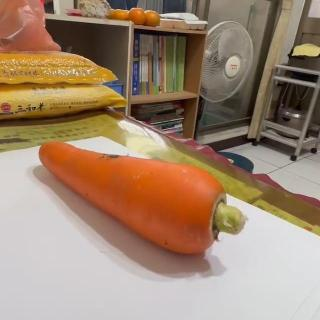carrot: (39, 140, 245, 256)
